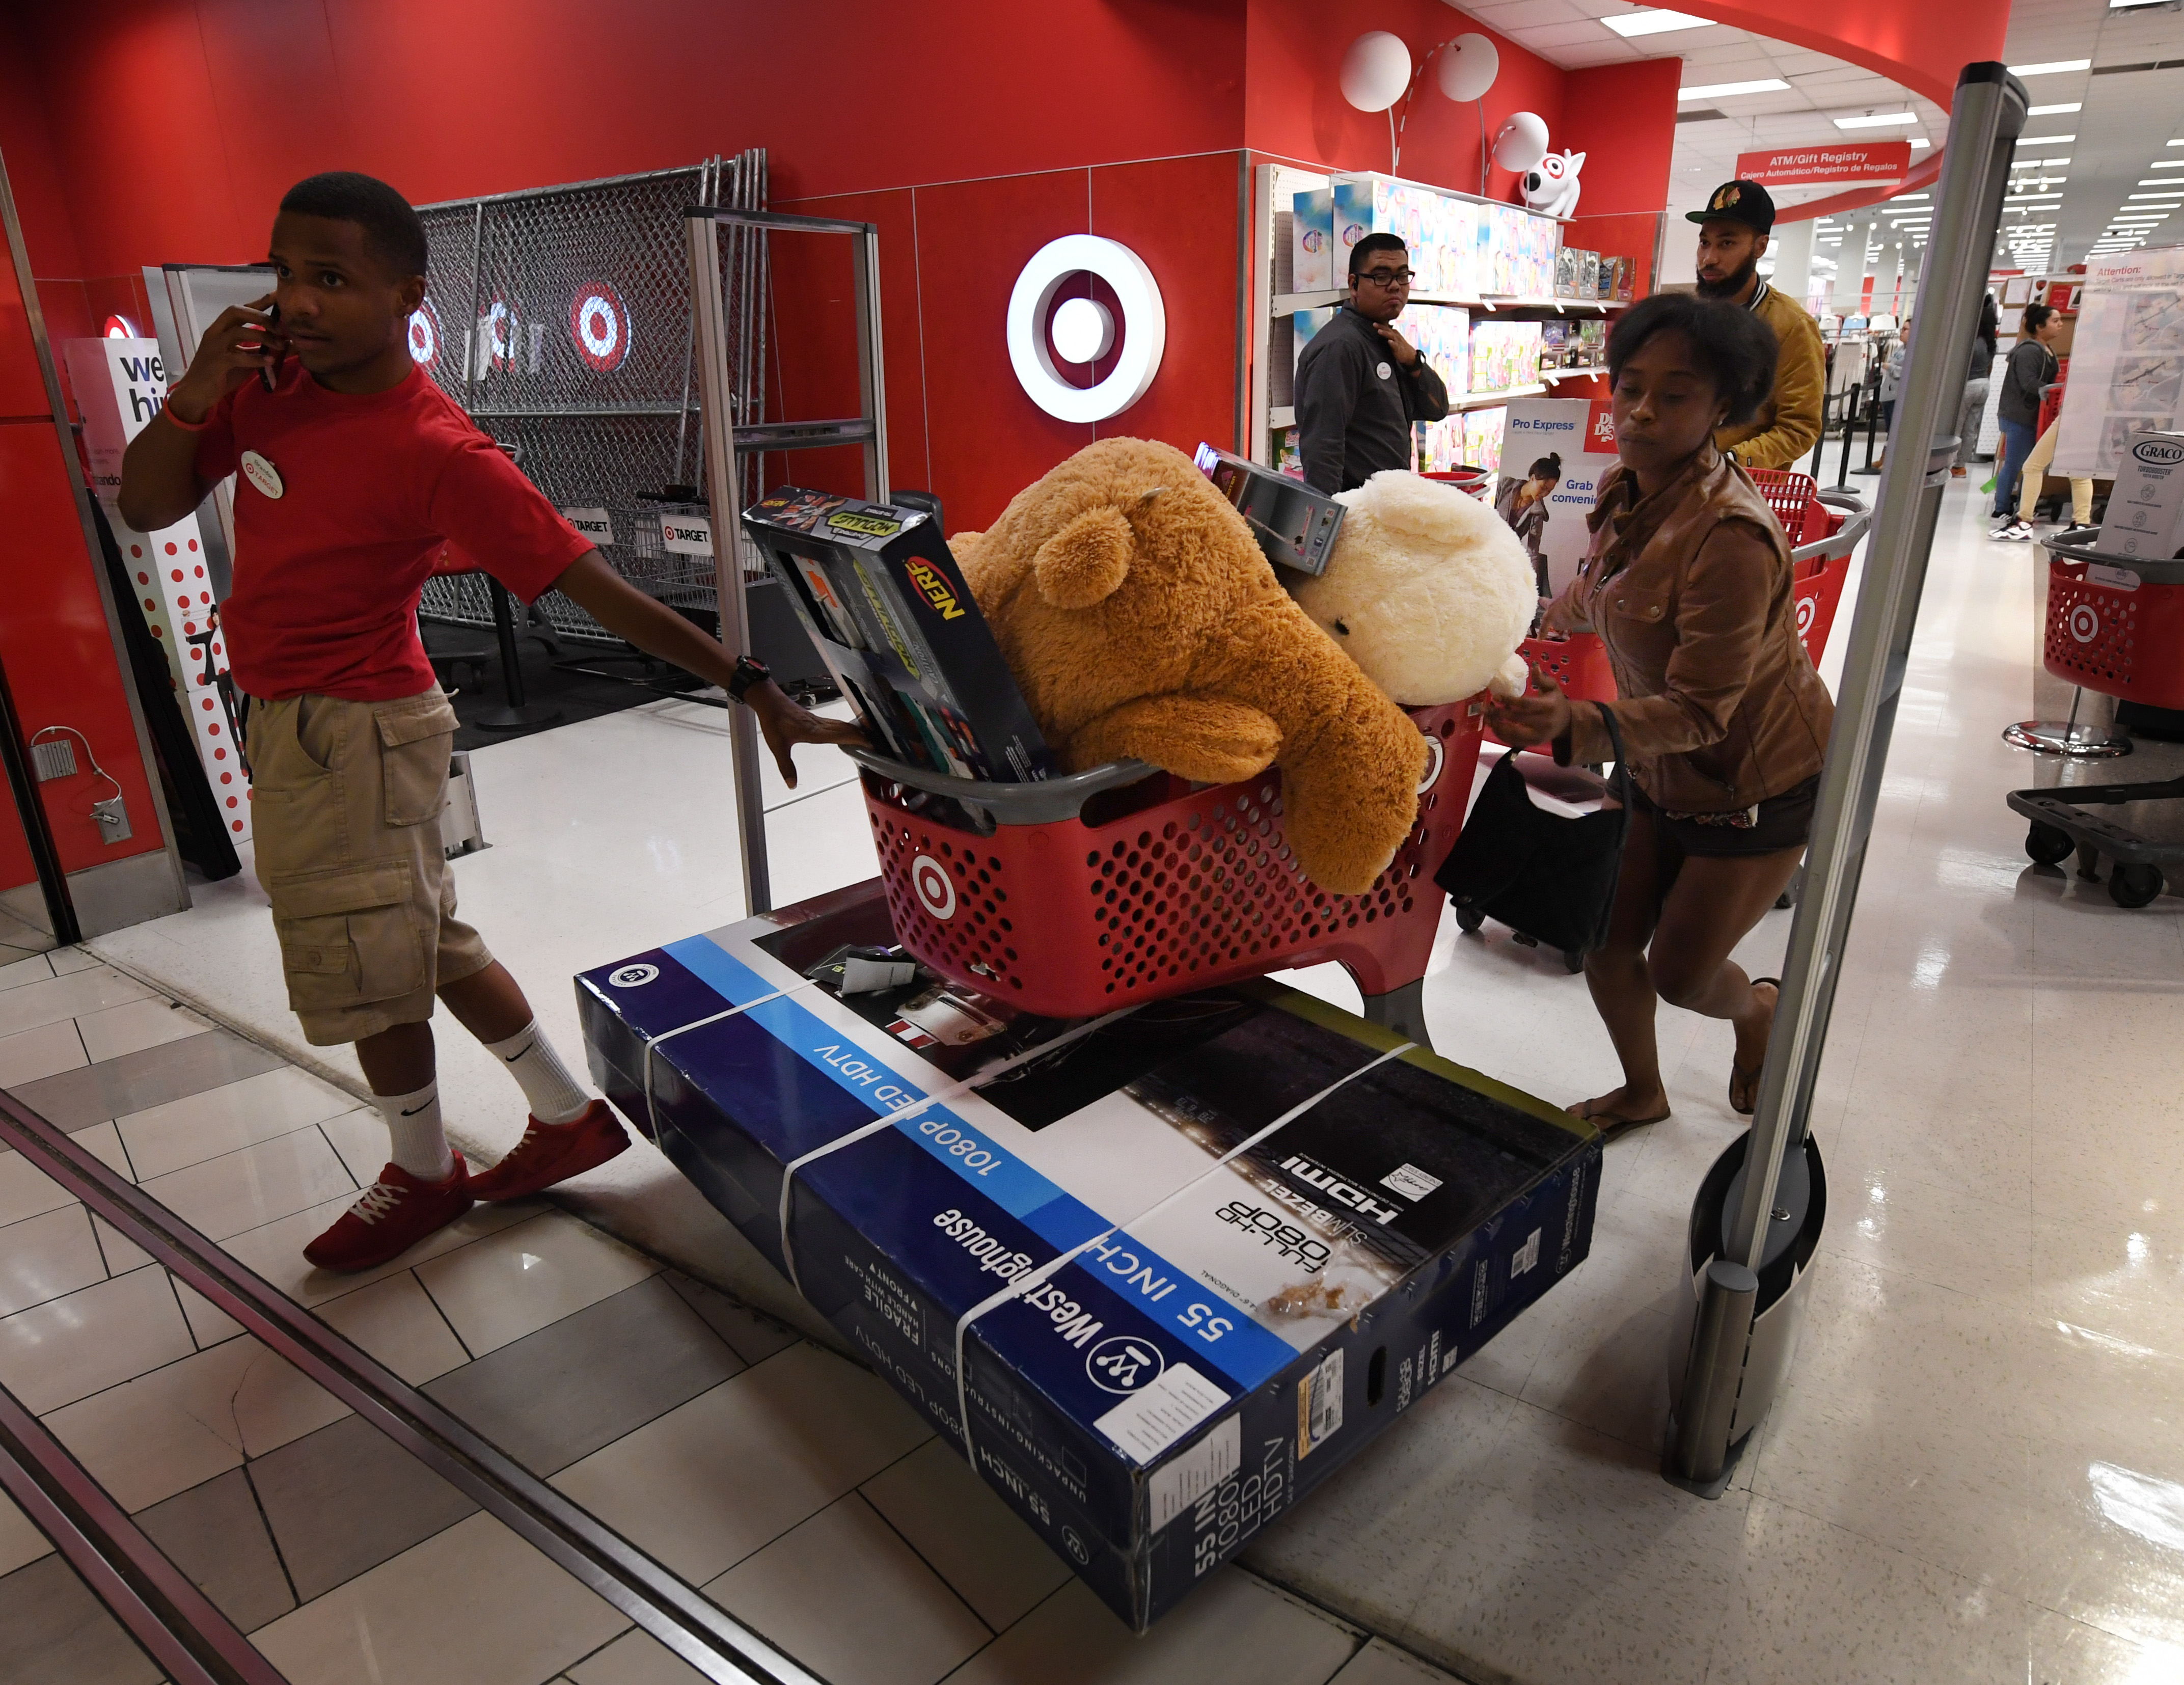Age_20_30: (272, 198, 445, 403), (1600, 319, 1769, 469), (1698, 161, 1769, 302), (1354, 240, 1433, 330)
E_Arab: (1698, 161, 1769, 302)
E_Black: (272, 198, 445, 403), (1600, 319, 1769, 469)
E_Hispanic: (1698, 161, 1769, 302), (1354, 240, 1433, 330)
Emotion_Neutral: (272, 198, 445, 403), (1600, 319, 1769, 469), (1698, 161, 1769, 302), (1354, 240, 1433, 330)
G_ Female: (1600, 319, 1769, 469)
G_Male: (272, 198, 445, 403), (1698, 161, 1769, 302), (1354, 240, 1433, 330)
